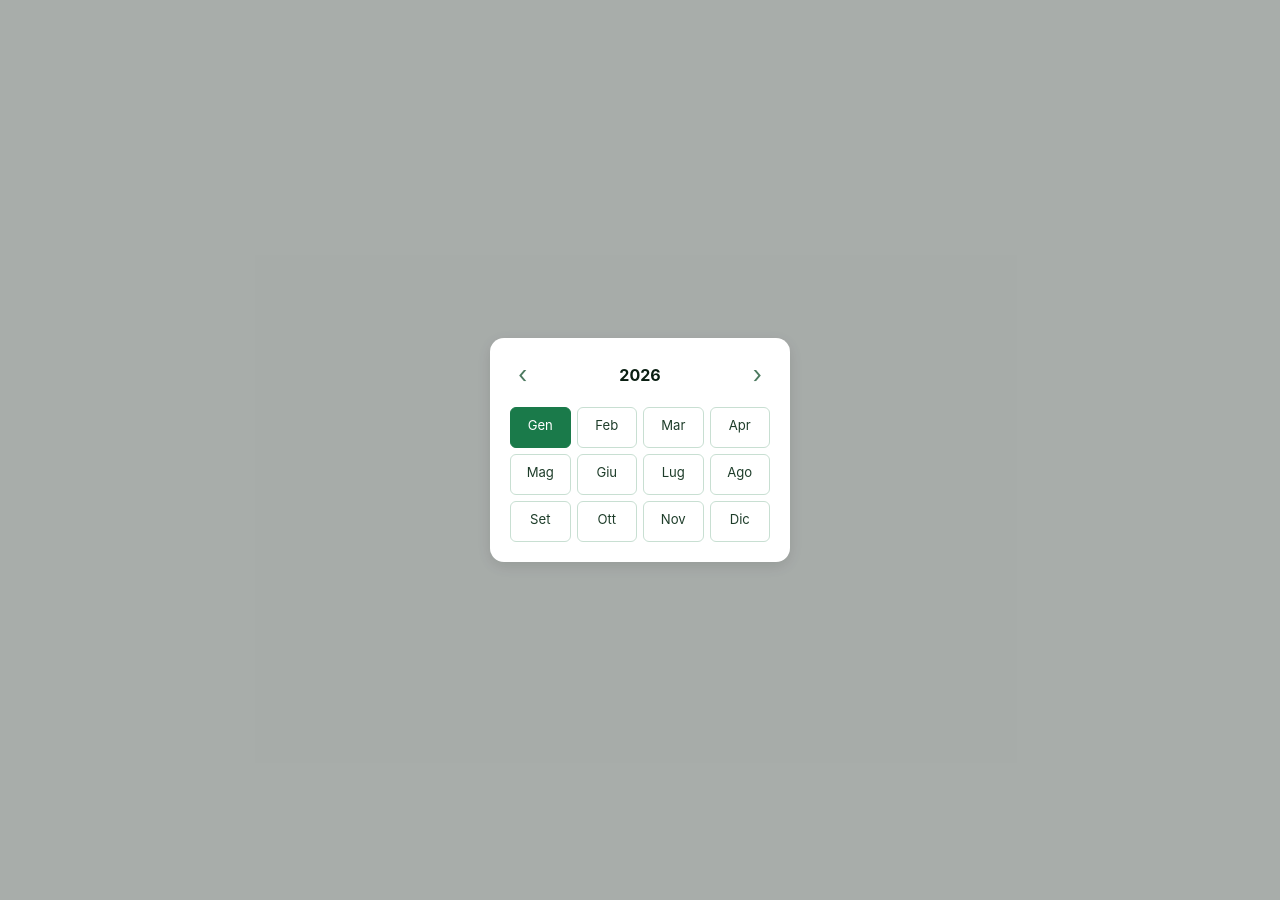
MonthPicker.vue › frecce avanti/indietro cambiano l'anno (locale)
Click the button "‹" at (523, 374), box [510,358,535,391]
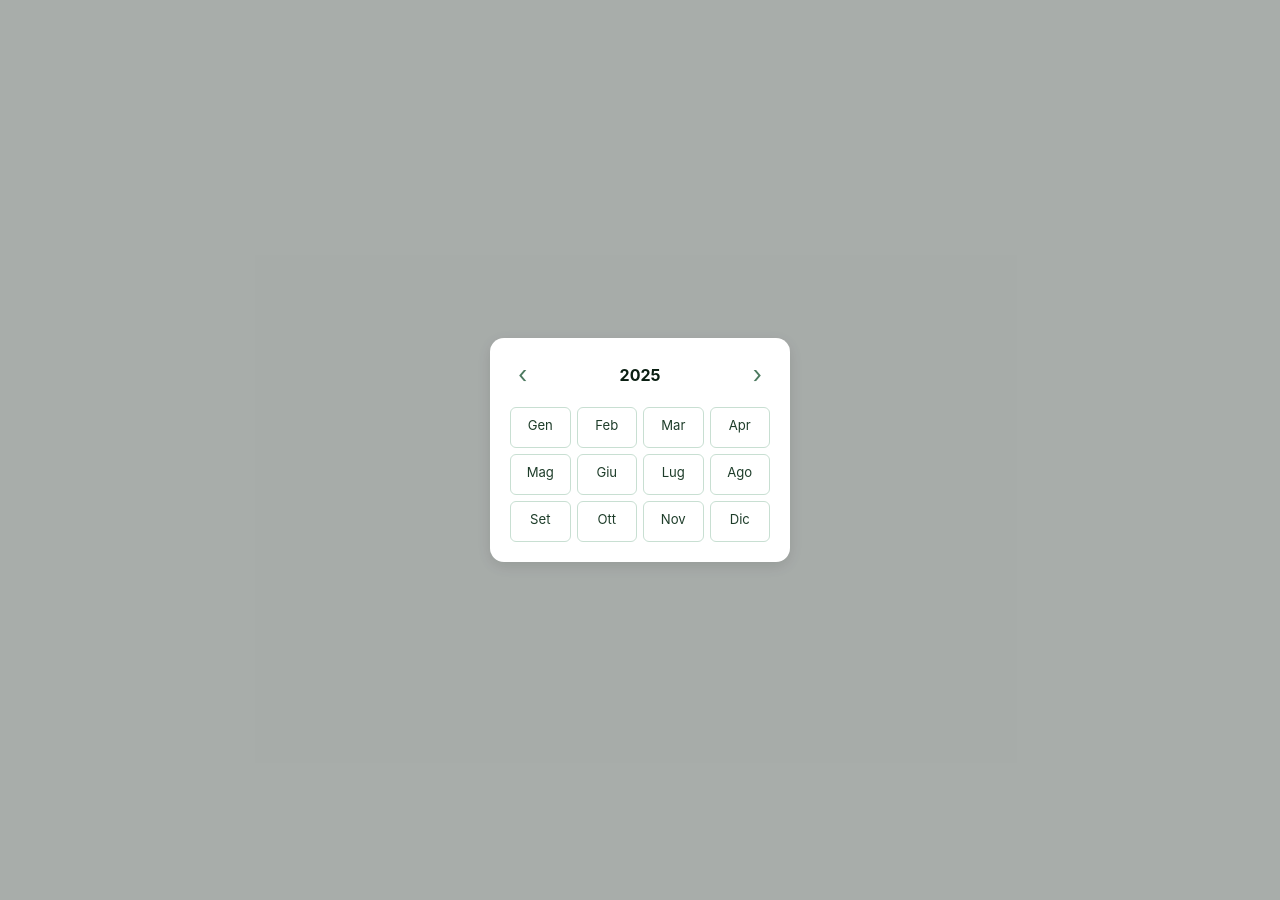
Expected: the text "2025" is shown, [620,362,660,386]
Click the button "›" at (757, 374), box [745,358,770,391]
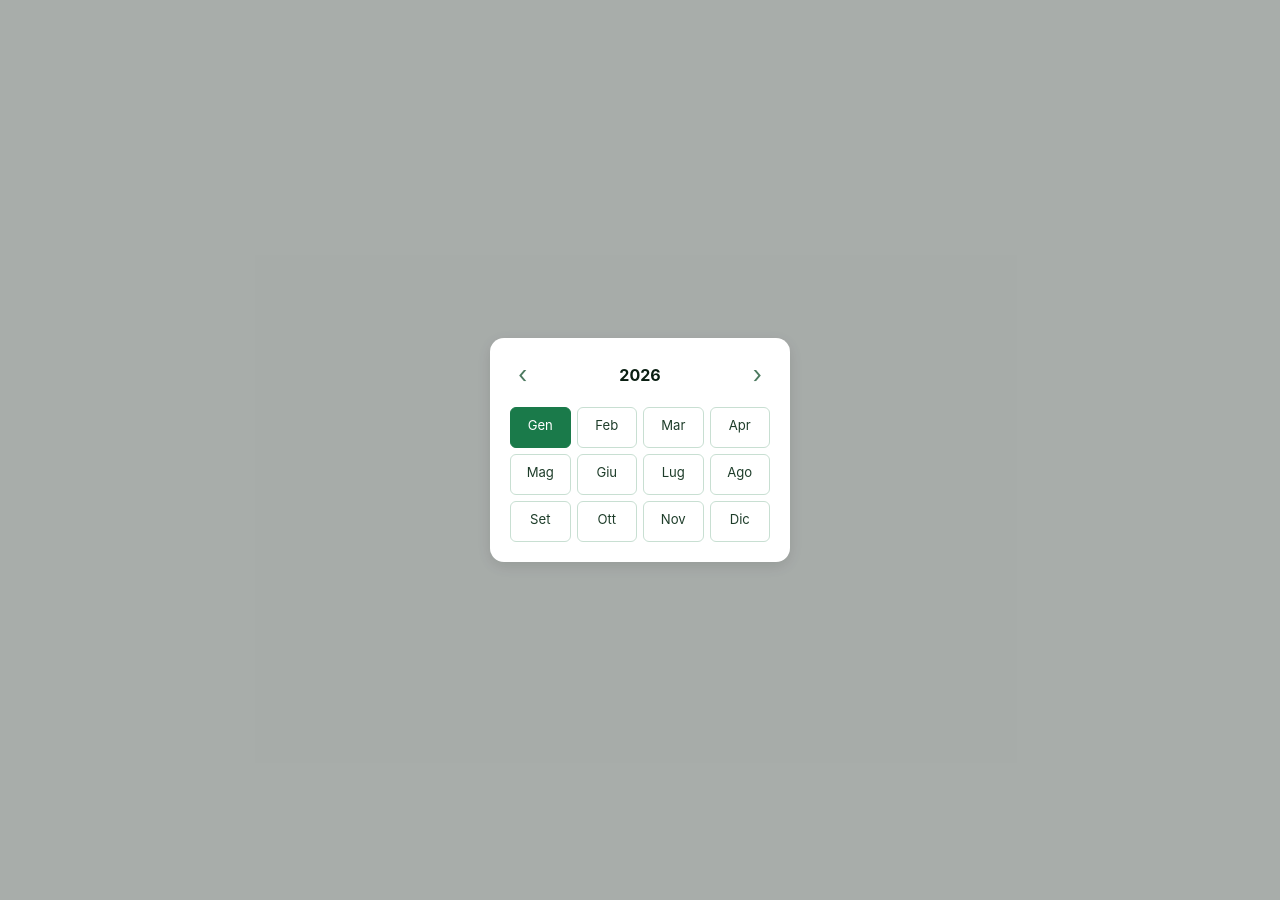
Click the button "›" at (757, 374), box [745,358,770,391]
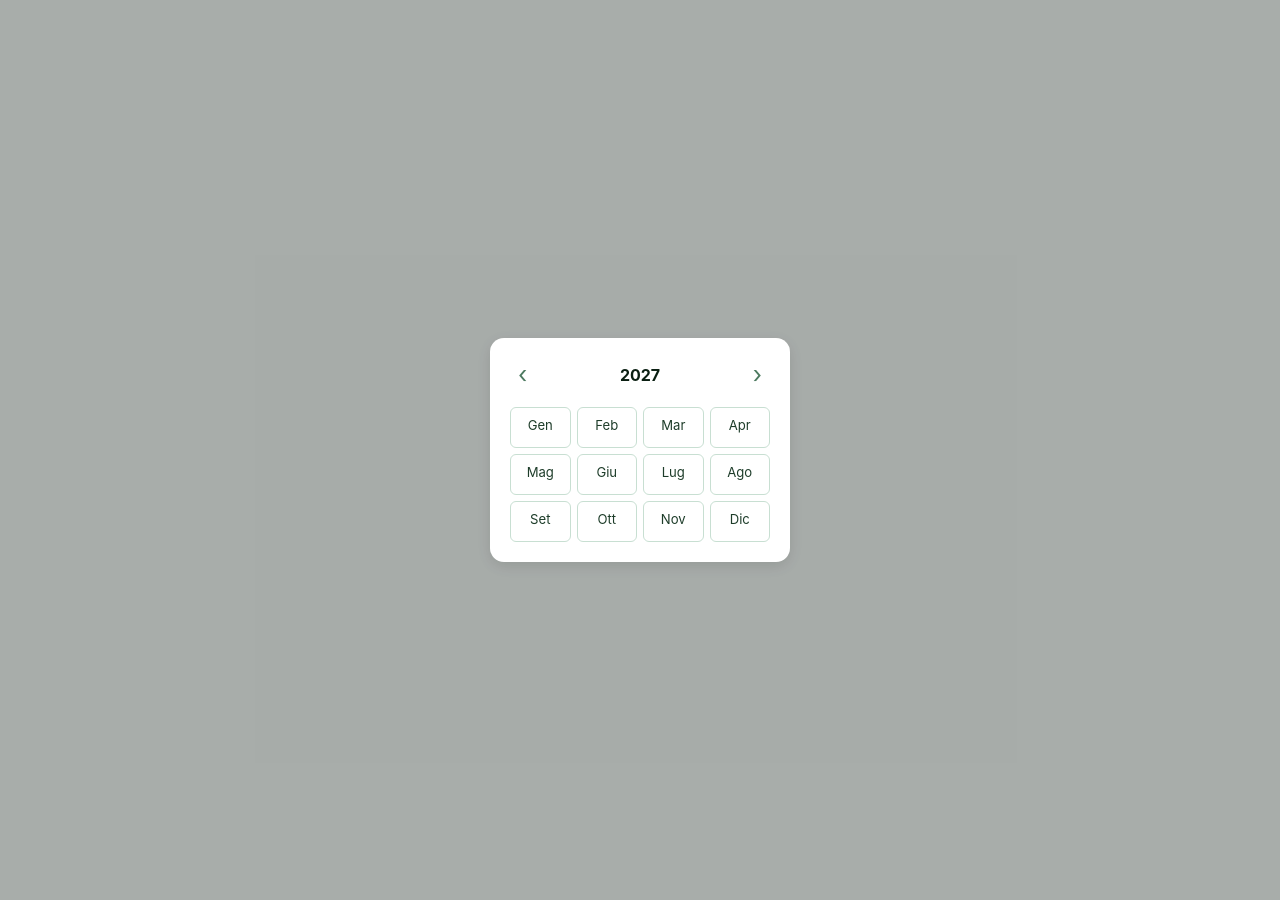
Expected: the text "2027" is shown, [620,362,660,386]
